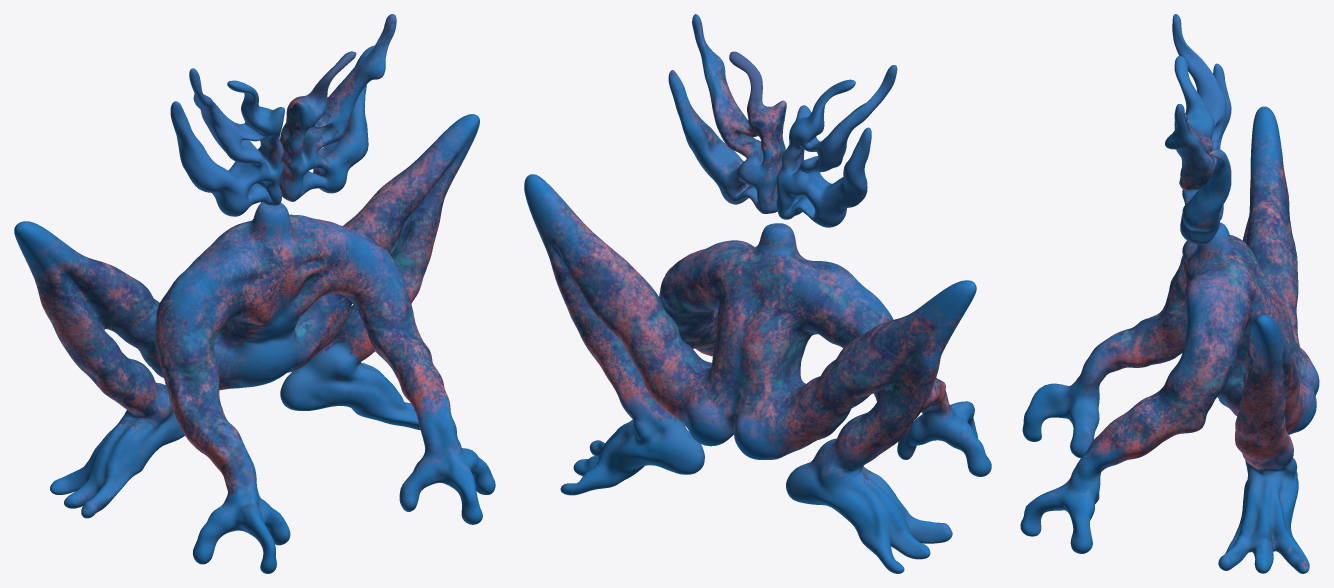
File: shr-squad-monster.glb
3 renders of one model, left to right at view 1: azimuth 30°, elevation 25°; view 2: azimuth 150°, elevation 25°; view 3: azimuth 270°, elevation 25°, orthographic. The views are drawn at different scales.
Parts seen in each view (by area): view 1: geometry_0; view 2: geometry_0; view 3: geometry_0.
Part boxes in pixels (bbox=[...]): geometry_0: bbox=[14, 14, 495, 573]; geometry_0: bbox=[524, 14, 991, 573]; geometry_0: bbox=[1020, 14, 1319, 573].
Bounding box in the file's own units: 1 × 0.9522 × 0.5887.
Materials: 1 (1 with a texture image).
